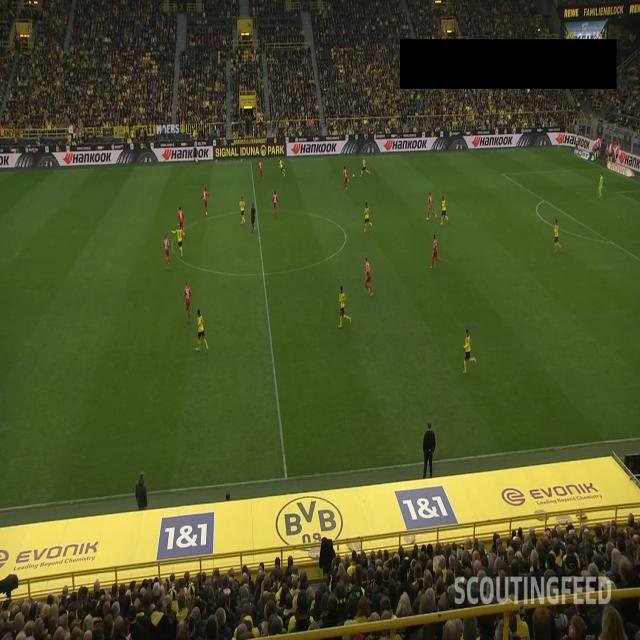ball: (352, 173, 355, 178)
